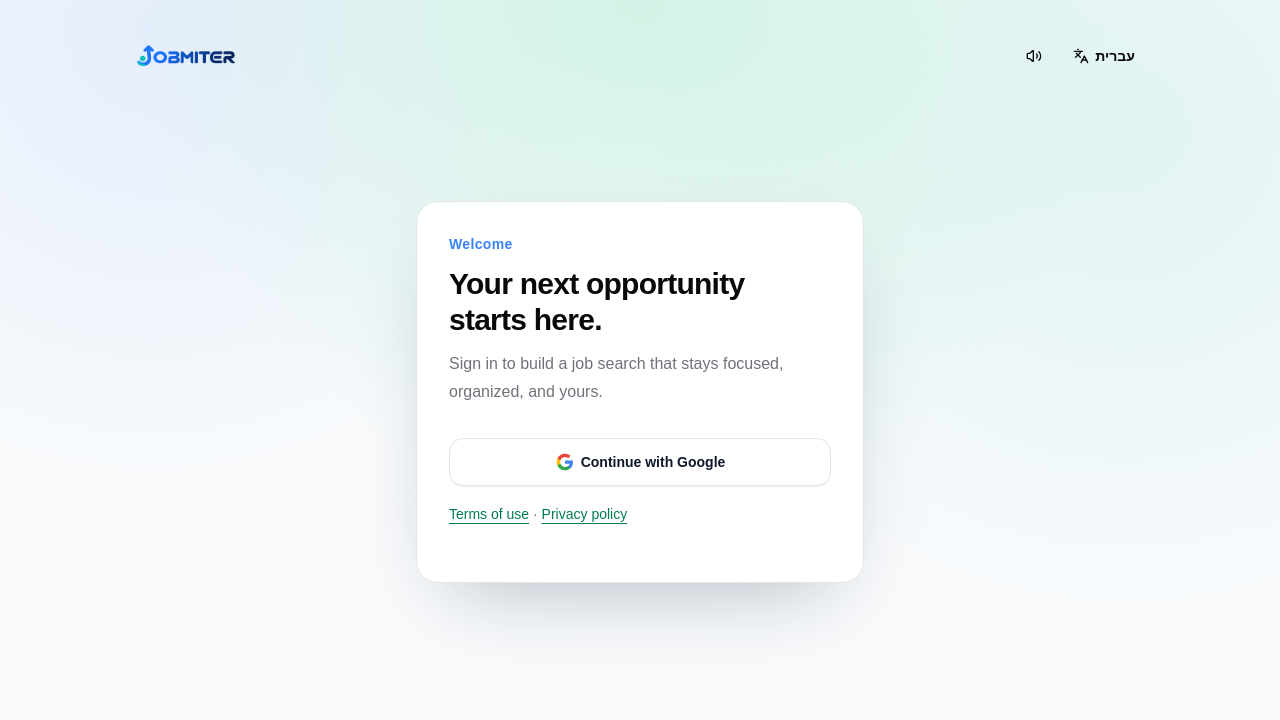
Test case: authentication UI › recovers when the initial OAuth request fails
Step 1. Click the button "Continue with Google" → (640,462), box [449,438,831,486]
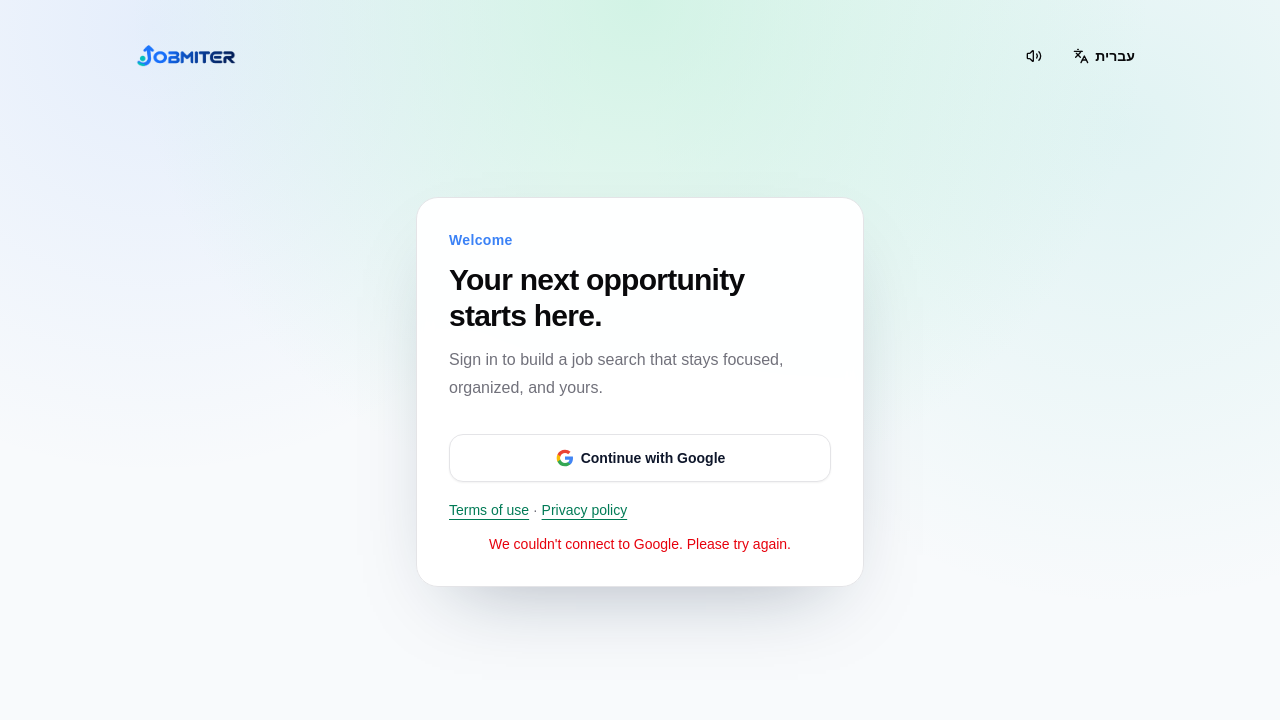
Now the text "We couldn't connect to Google. Please try again." is shown, box [489,536,791,552]
